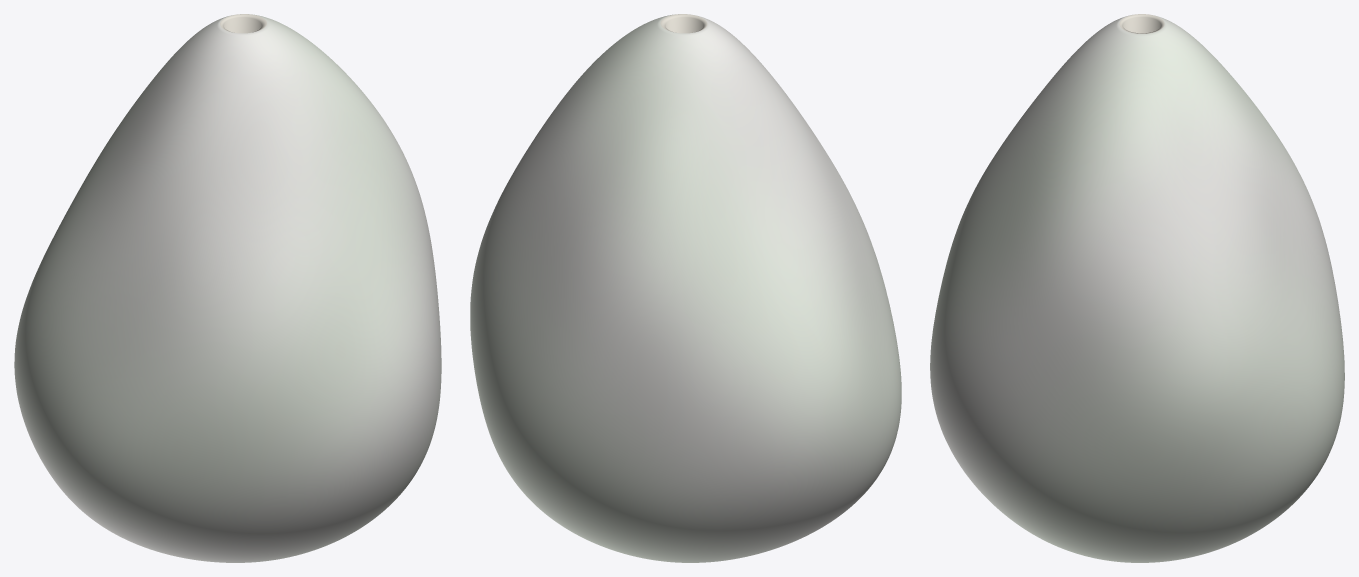
The model's file is pearl-ref-13.glb.
The picture shows the model from 3 angles, left to right: view 1: azimuth 30°, elevation 25°; view 2: azimuth 150°, elevation 25°; view 3: azimuth 270°, elevation 25°; orthographic projection.
Parts seen in each view (by area): view 1: pearl-ref-13; view 2: pearl-ref-13; view 3: pearl-ref-13.
Boxes of the visible parts, <box> form: pearl-ref-13: <box>14,14,441,562</box>; pearl-ref-13: <box>470,14,901,562</box>; pearl-ref-13: <box>930,14,1344,562</box>.
Bounding box in the file's own units: 0.00915 × 0.0119 × 0.00866.
2 materials, 1 textured.
